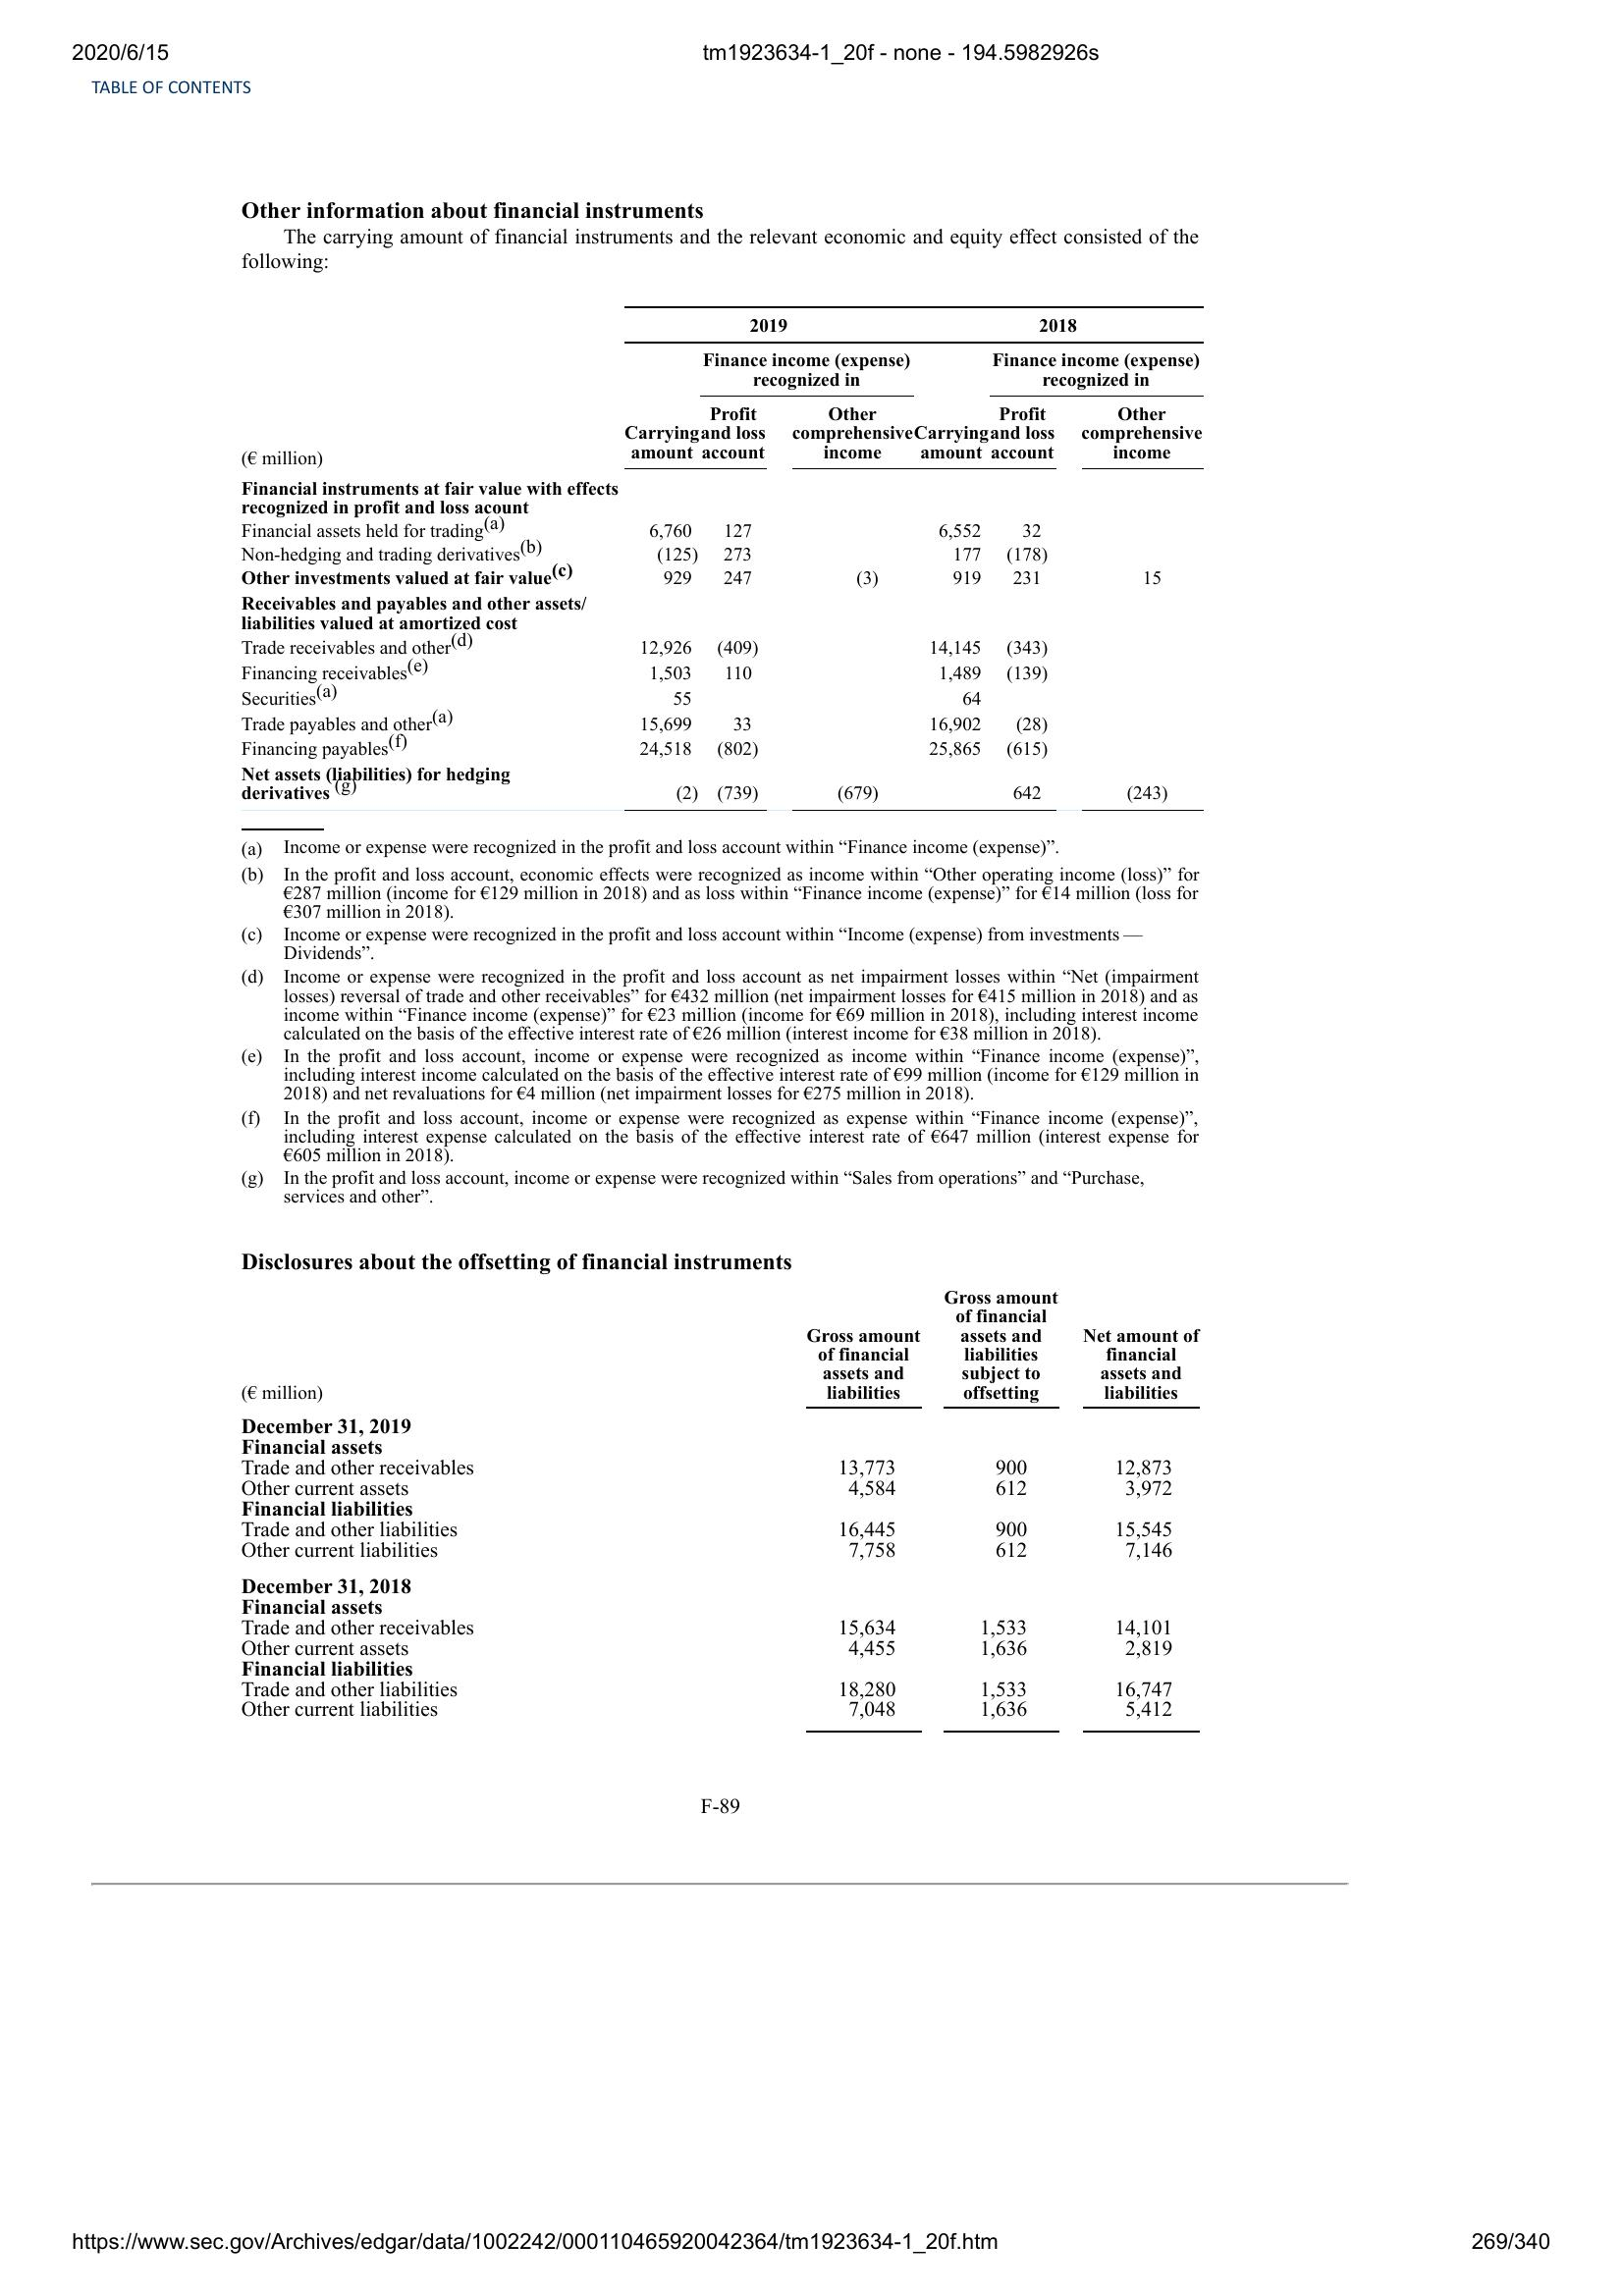table: (239, 297, 1208, 822), (227, 1278, 1208, 1736)
